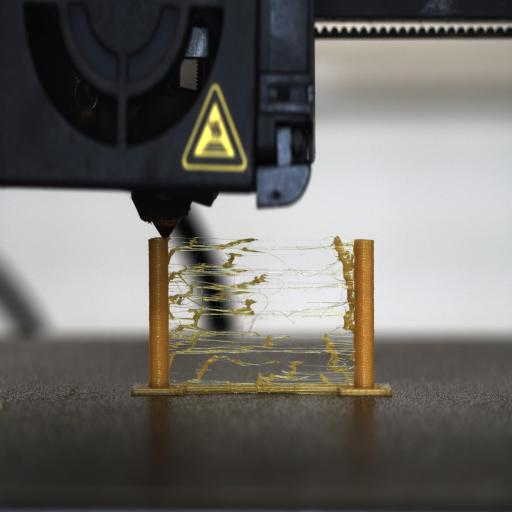stringing: (169, 235, 357, 389)
